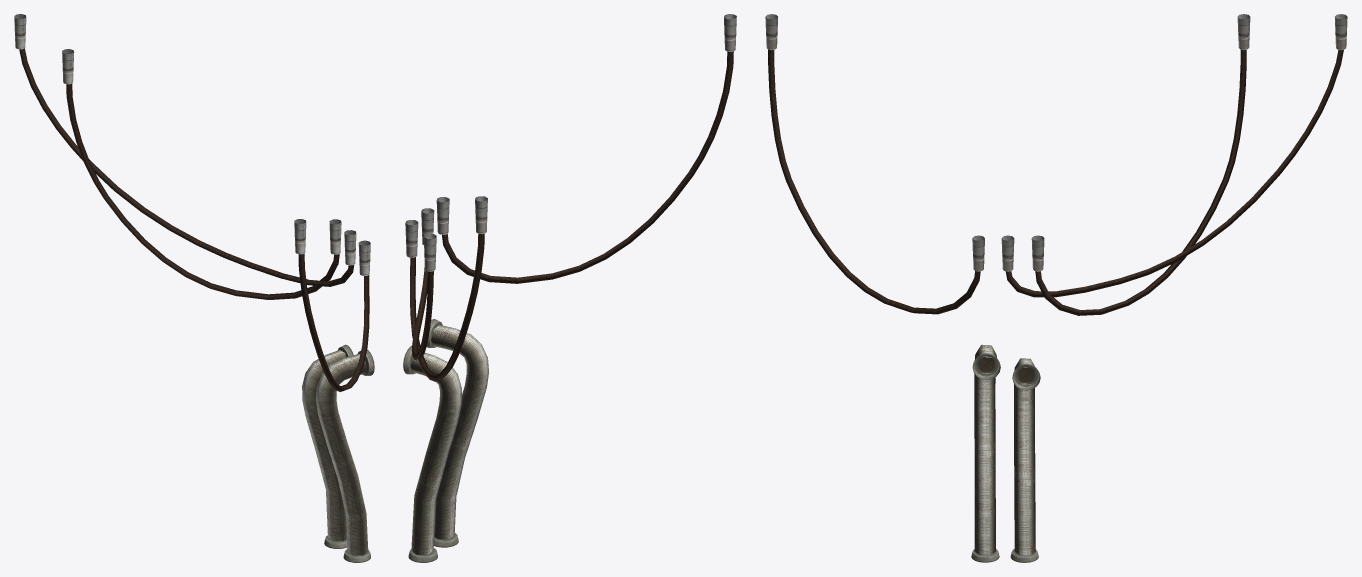
The model's file is EQP_PIPES009.FBX.
3 views of the same model, side by side, from view 1: azimuth 30°, elevation 25°; view 2: azimuth 150°, elevation 25°; view 3: azimuth 270°, elevation 25° (orthographic). The views are drawn at different scales.
Parts seen in each view (by area): view 1: PIPES009; view 2: PIPES009; view 3: PIPES009.
Part boxes in pixels (box(x1,y1,x2,y2)): PIPES009: box(14, 14, 374, 562); PIPES009: box(403, 14, 736, 562); PIPES009: box(765, 14, 1347, 562).
Size of the model in its own units: 130 by 313 by 359.
Materials: 1 (1 with a texture image).
